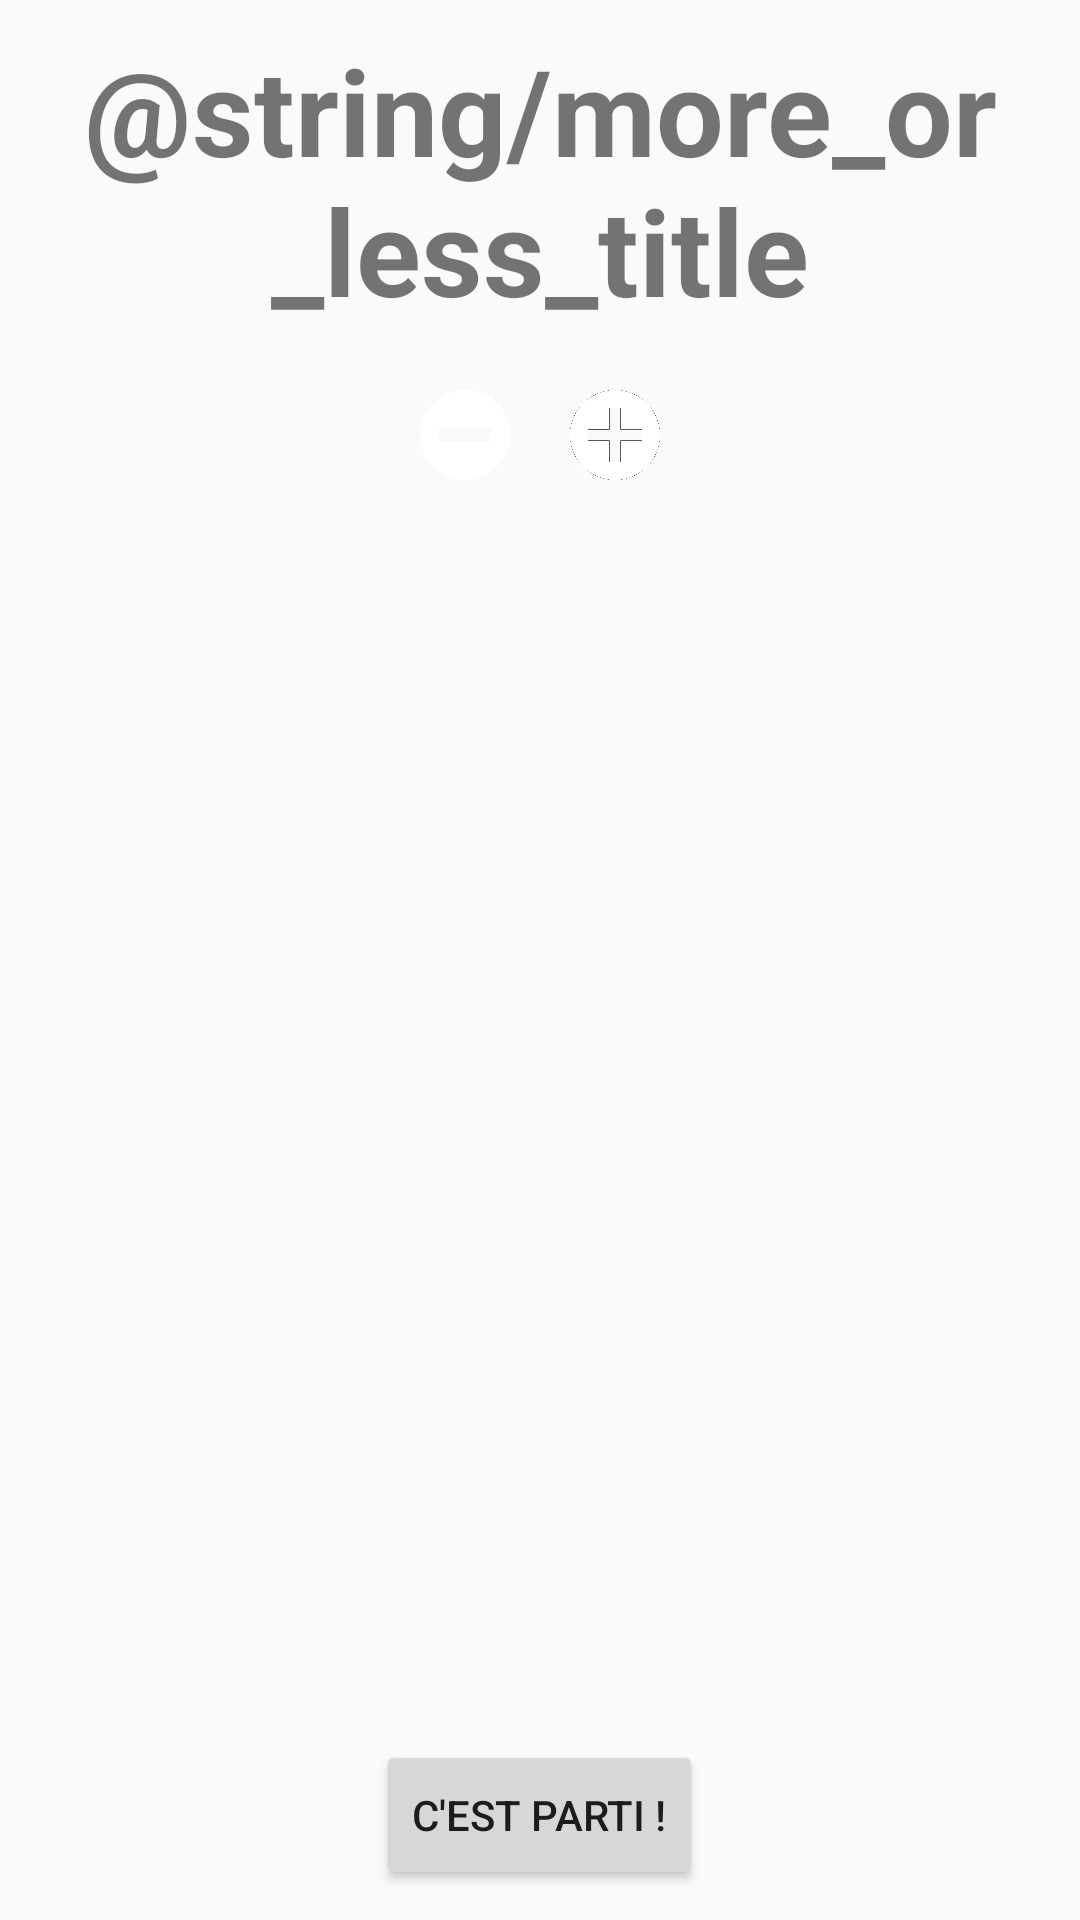

Icons on this 1080w x 1920h Android screen, each with its box as (x1, y1, x2, y2):
plus: (570, 390, 660, 480)
